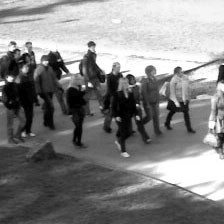person: (163, 64, 198, 133), (33, 51, 61, 131), (81, 40, 106, 115), (141, 64, 164, 138), (125, 73, 148, 146), (104, 62, 127, 135), (1, 72, 24, 144), (65, 72, 86, 149), (114, 77, 133, 160), (16, 61, 36, 137), (208, 77, 224, 169), (46, 39, 68, 86), (23, 40, 38, 79), (7, 47, 22, 78), (5, 40, 17, 70), (20, 51, 33, 75)
